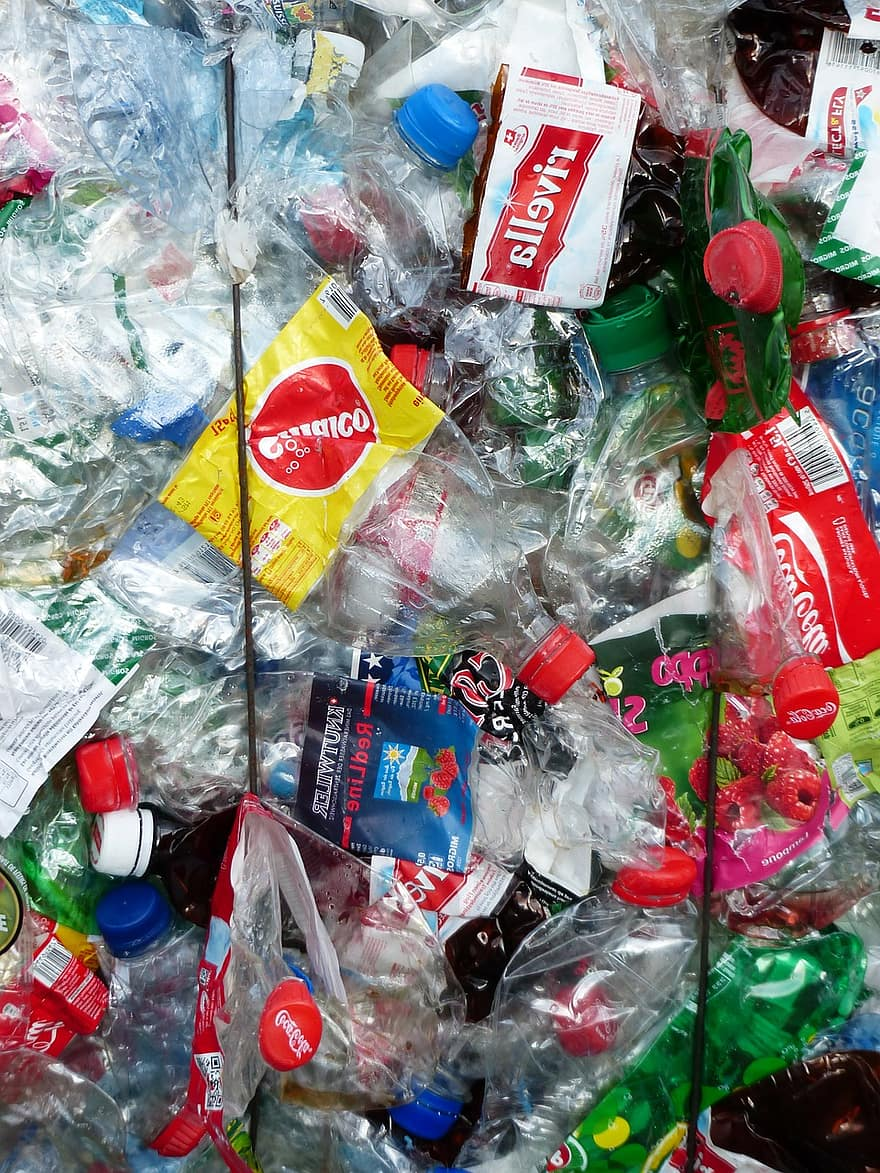plastic_bottle: (94, 180, 681, 846), (7, 600, 734, 1038), (175, 12, 685, 589), (4, 805, 799, 1173), (11, 12, 834, 324), (422, 353, 880, 808), (456, 831, 880, 1159), (621, 72, 880, 414)
